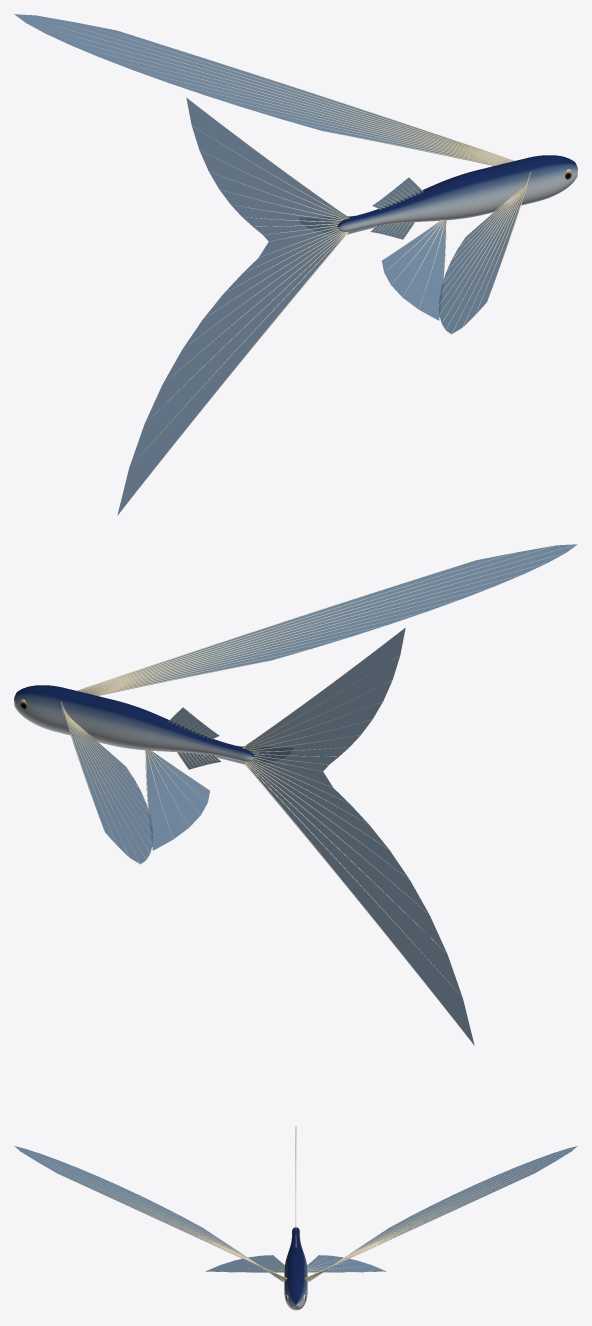
The model's file is tff.glb.
3 renders of one model, top to bottom at view 1: azimuth 30°, elevation 25°; view 2: azimuth 150°, elevation 25°; view 3: azimuth 270°, elevation 25°, orthographic. The views are drawn at different scales.
Visible parts, largest first — view 1: caudal_fin, pectoral_fin_L, skin_R, pectoral_fin_R, pelvic_fin_R, caudal_fin_rays, pectoral_fin_ray_L_04, pectoral_fin_ray_L_05, pectoral_fin_ray_L_03, pectoral_fin_ray_L_06, dorsal_fin; view 2: caudal_fin, pectoral_fin_R, skin_L, pectoral_fin_L, pelvic_fin_L, caudal_fin_rays, pectoral_fin_ray_R_04, pectoral_fin_ray_R_05, pectoral_fin_ray_R_03, pectoral_fin_ray_R_06, dorsal_fin; view 3: pectoral_fin_L, pectoral_fin_R, pelvic_fin_L, pelvic_fin_R, skin_L, skin_R.
Boxes of the visible parts, <box> form: caudal_fin: <box>117,98,345,514</box>; pectoral_fin_L: <box>15,14,464,158</box>; skin_R: <box>337,156,577,232</box>; pectoral_fin_R: <box>438,192,523,334</box>; pelvic_fin_R: <box>382,221,445,320</box>; caudal_fin_rays: <box>117,97,349,515</box>; pectoral_fin_ray_L_04: <box>14,14,510,161</box>; pectoral_fin_ray_L_05: <box>26,23,509,162</box>; pectoral_fin_ray_L_03: <box>36,15,511,161</box>; pectoral_fin_ray_L_06: <box>45,33,507,162</box>; dorsal_fin: <box>372,177,422,209</box>; caudal_fin: <box>246,628,474,1044</box>; pectoral_fin_R: <box>127,544,576,688</box>; skin_L: <box>14,686,254,762</box>; pectoral_fin_L: <box>68,722,153,864</box>; pelvic_fin_L: <box>146,751,209,850</box>; caudal_fin_rays: <box>242,627,474,1045</box>; pectoral_fin_ray_R_04: <box>81,544,577,691</box>; pectoral_fin_ray_R_05: <box>82,553,565,692</box>; pectoral_fin_ray_R_03: <box>80,545,555,691</box>; pectoral_fin_ray_R_06: <box>84,563,546,692</box>; dorsal_fin: <box>169,707,219,739</box>; pectoral_fin_L: <box>349,1146,577,1254</box>; pectoral_fin_R: <box>14,1146,242,1254</box>; pelvic_fin_L: <box>307,1255,385,1271</box>; pelvic_fin_R: <box>206,1255,284,1271</box>; skin_L: <box>296,1227,307,1310</box>; skin_R: <box>284,1227,295,1310</box>.
Size of the model in its own units: 1.63 by 1.36 by 2.68.
